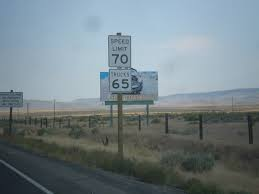70 MPH: (107, 33, 135, 69)
